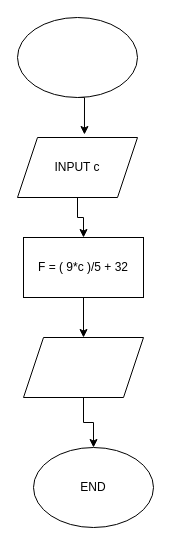
Some shapes in this 171 by 545 pixel diagram are drawn without their labels. Each missing label, with the box of its shape:
BEGIN: (16, 16, 138, 98)
DÍPLAY F: (22, 336, 144, 398)
